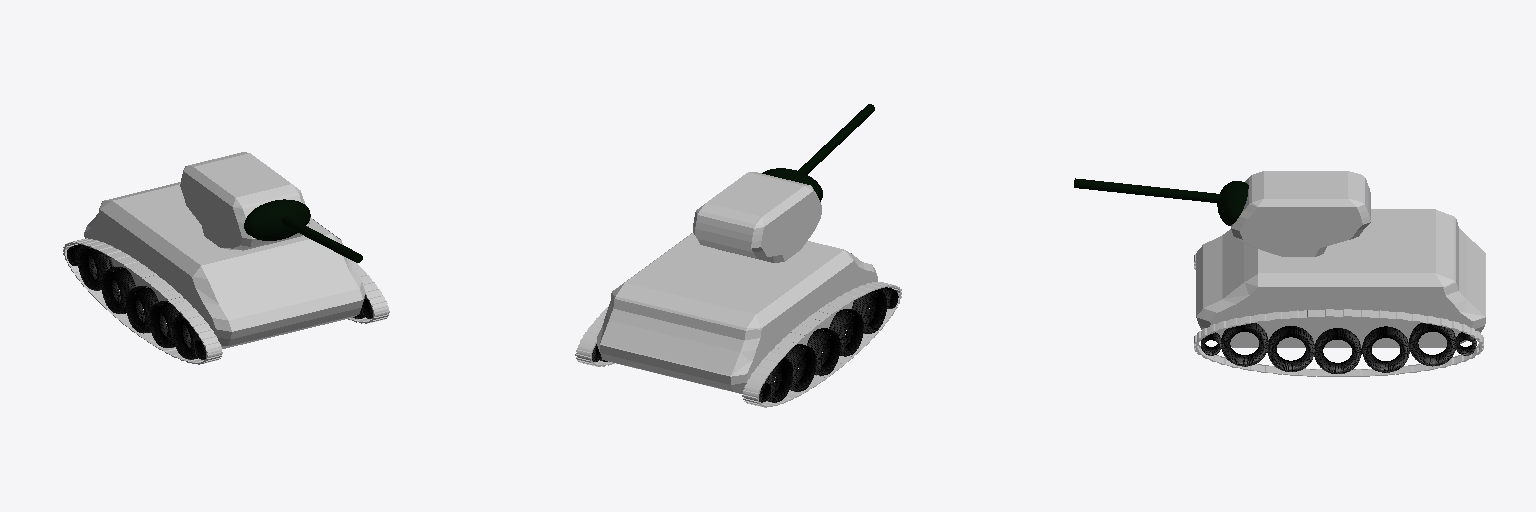
The picture shows the model from 3 angles: view 1: azimuth 30°, elevation 25°; view 2: azimuth 150°, elevation 25°; view 3: azimuth 270°, elevation 25°; orthographic projection.
Visible parts, largest first — view 1: Cubo.001, Rosca.018, Gear.003, Cilindro; view 2: Cubo.001, Rosca.018, Gear.003, Cilindro; view 3: Cubo.001, Rosca.018, Gear.003, Cilindro.
Boxes of the visible parts, box(x1,y1,x2,y2) form: Cubo.001: box(84, 152, 365, 348); Rosca.018: box(67, 244, 372, 359); Gear.003: box(63, 238, 389, 364); Cilindro: box(244, 199, 362, 262); Cubo.001: box(597, 172, 877, 393); Rosca.018: box(592, 287, 898, 402); Gear.003: box(575, 282, 901, 407); Cilindro: box(762, 104, 874, 201); Cubo.001: box(1196, 171, 1485, 347); Rosca.018: box(1201, 323, 1476, 373); Gear.003: box(1194, 254, 1483, 376); Cilindro: box(1074, 178, 1248, 225).
Size of the model in its own units: 22.06 by 17.68 by 42.87.
4 materials, 1 textured.